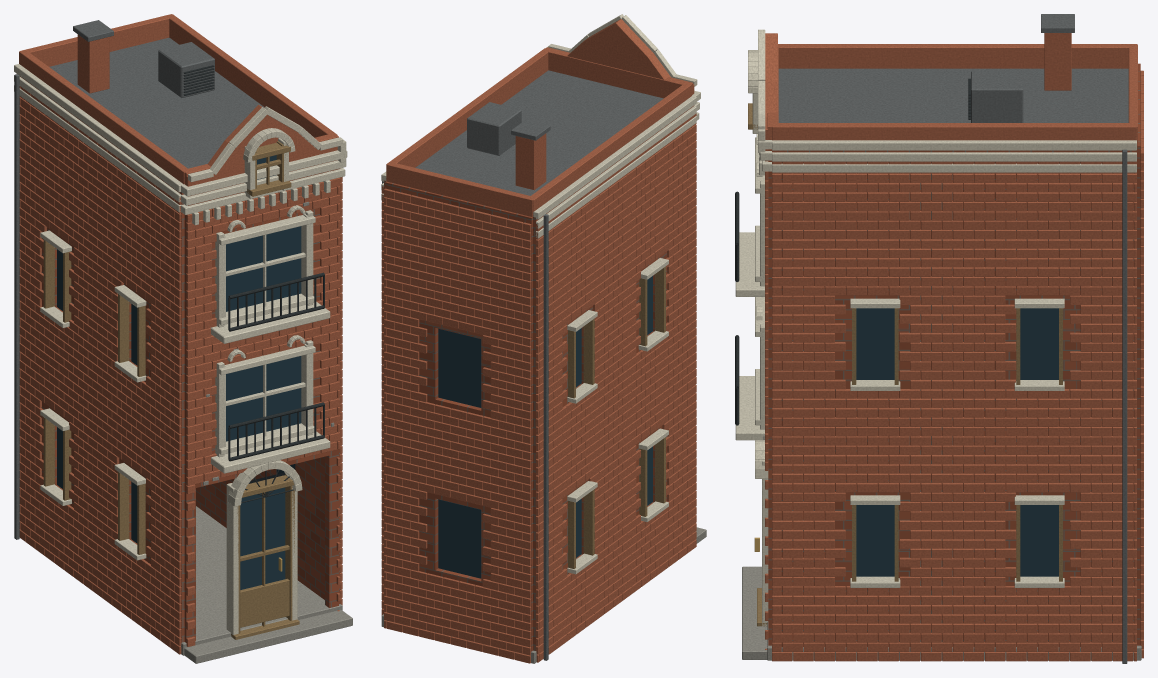
The model's file is VICT14_lod0.glb.
The picture shows the model from 3 angles, left to right: view 1: azimuth 30°, elevation 25°; view 2: azimuth 150°, elevation 25°; view 3: azimuth 270°, elevation 25°; orthographic projection. The views are drawn at different scales.
Visible parts, largest first — view 1: VICT14_LOD0; view 2: VICT14_LOD0; view 3: VICT14_LOD0.
Part boxes in pixels (x1,y1,x2,y2): VICT14_LOD0: (14,14,352,663); VICT14_LOD0: (381,14,706,663); VICT14_LOD0: (735,14,1143,663).
Bounding box in the file's own units: 3.71 × 10.64 × 6.72.
Materials: 12 (9 with a texture image).
